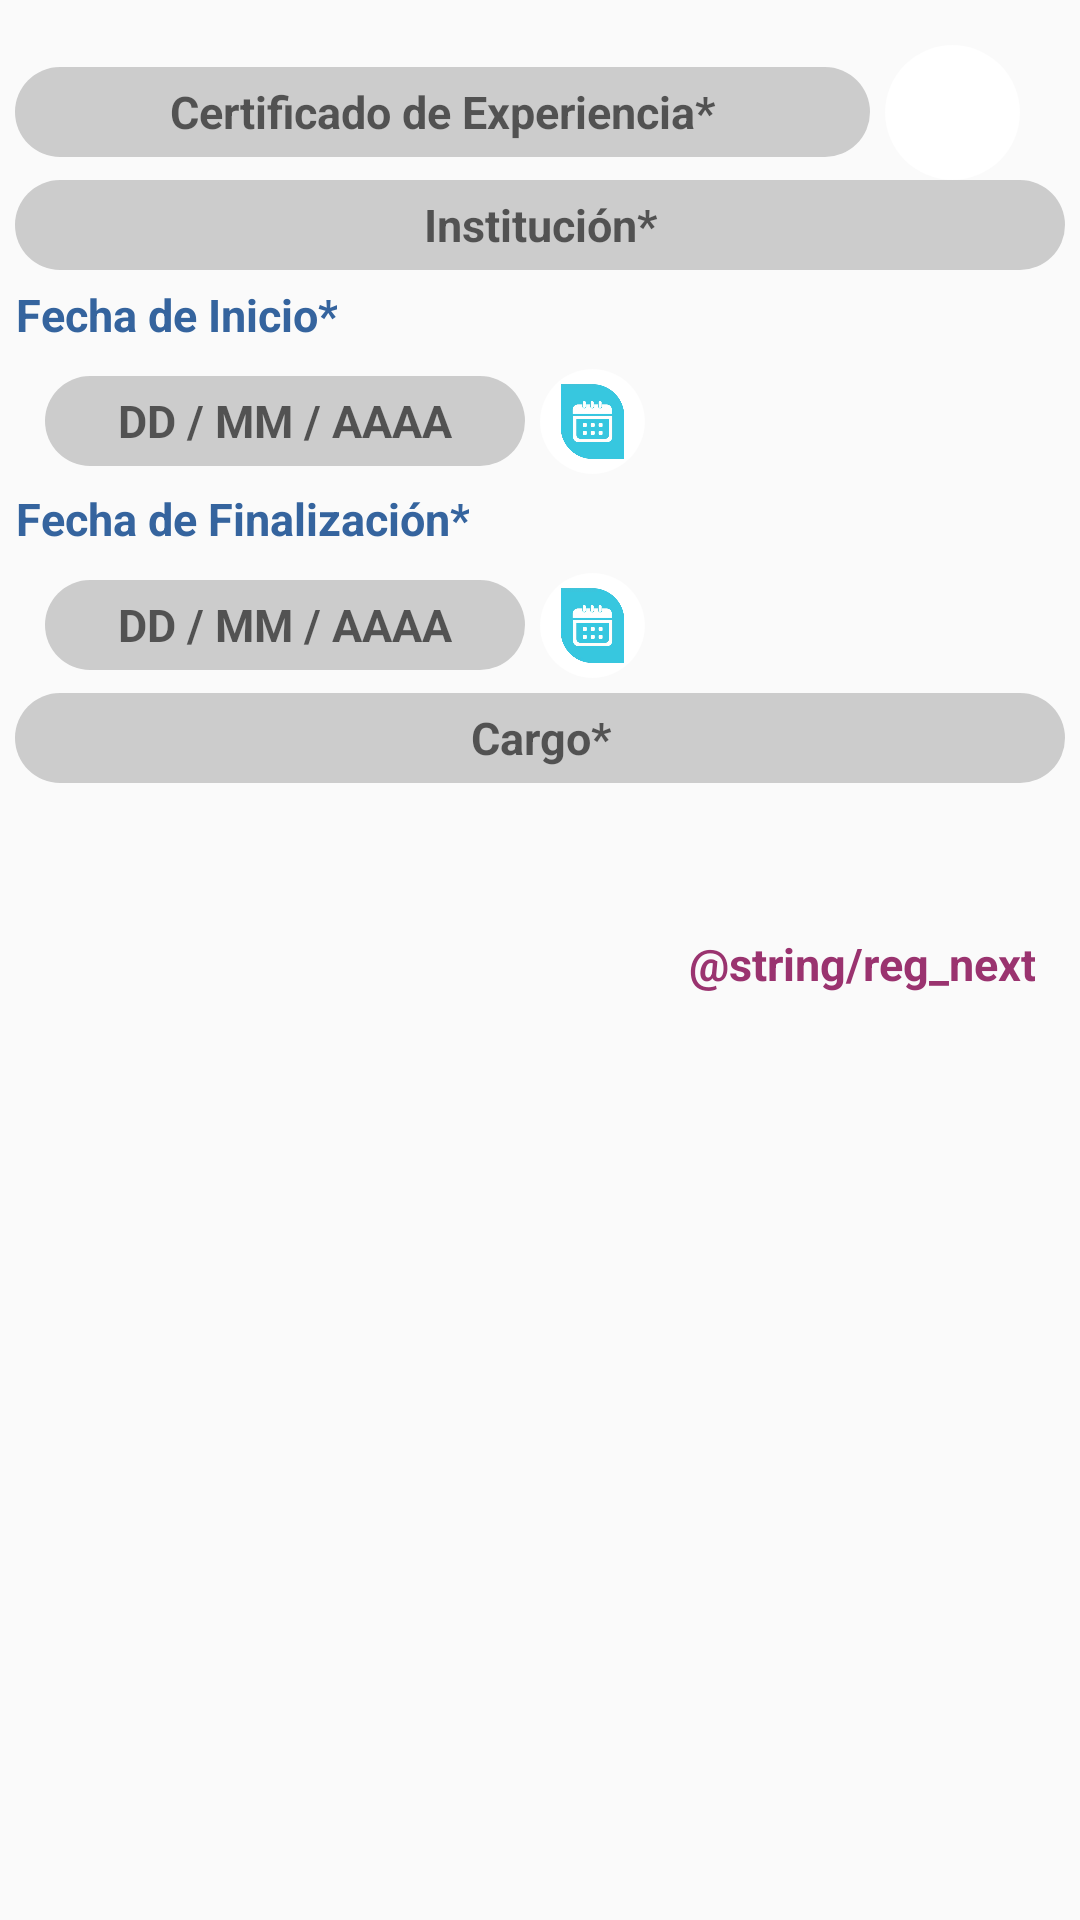

Named icons in this screenshot (1080×1920) and their bounding boxes, (x1, y1, x2, y2):
calendar: (561, 384, 624, 459), (561, 588, 624, 663)
